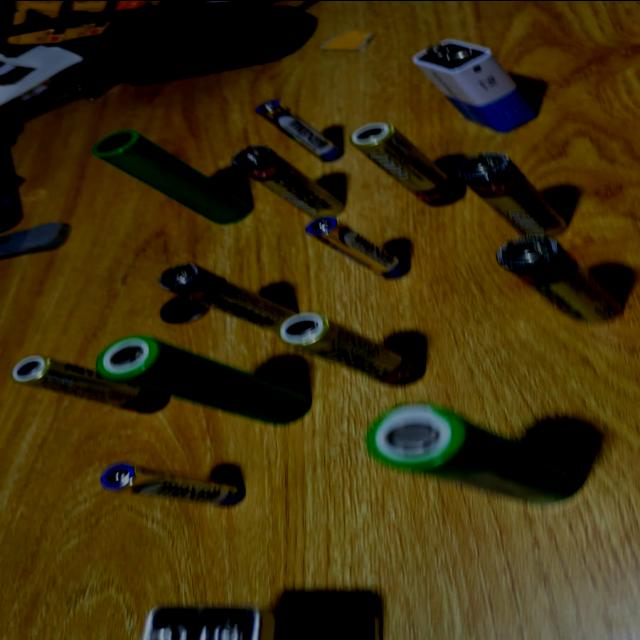9V: (412, 40, 540, 132), (142, 601, 378, 640)
AA: (494, 235, 624, 324), (276, 310, 424, 384), (454, 148, 568, 242), (347, 122, 467, 206), (155, 264, 299, 334), (9, 352, 172, 413), (232, 145, 342, 217)
AAA: (94, 456, 251, 509), (298, 213, 413, 278), (249, 96, 350, 162)
COIN: (156, 298, 208, 324)
